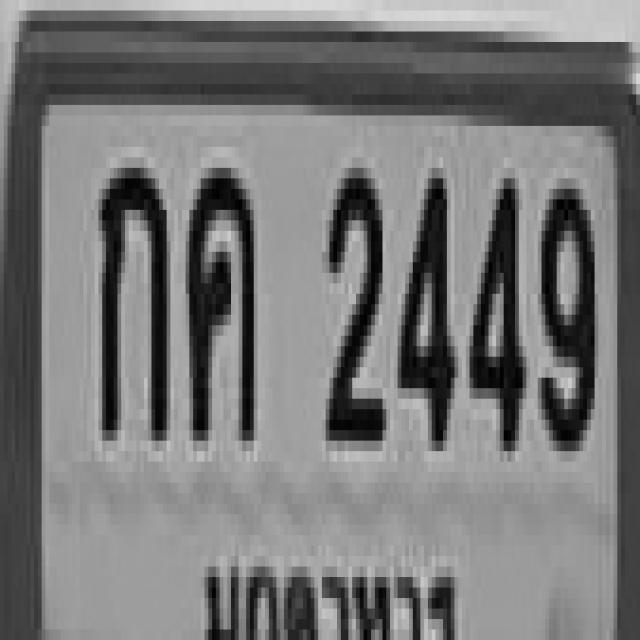10GorGai: (95, 157, 169, 450)
13KhorKhwai: (186, 158, 259, 458)
2: (324, 170, 382, 447)
4: (394, 166, 456, 446), (469, 173, 527, 448)
9: (538, 178, 596, 447)
Mukdahan: (190, 526, 459, 640)
